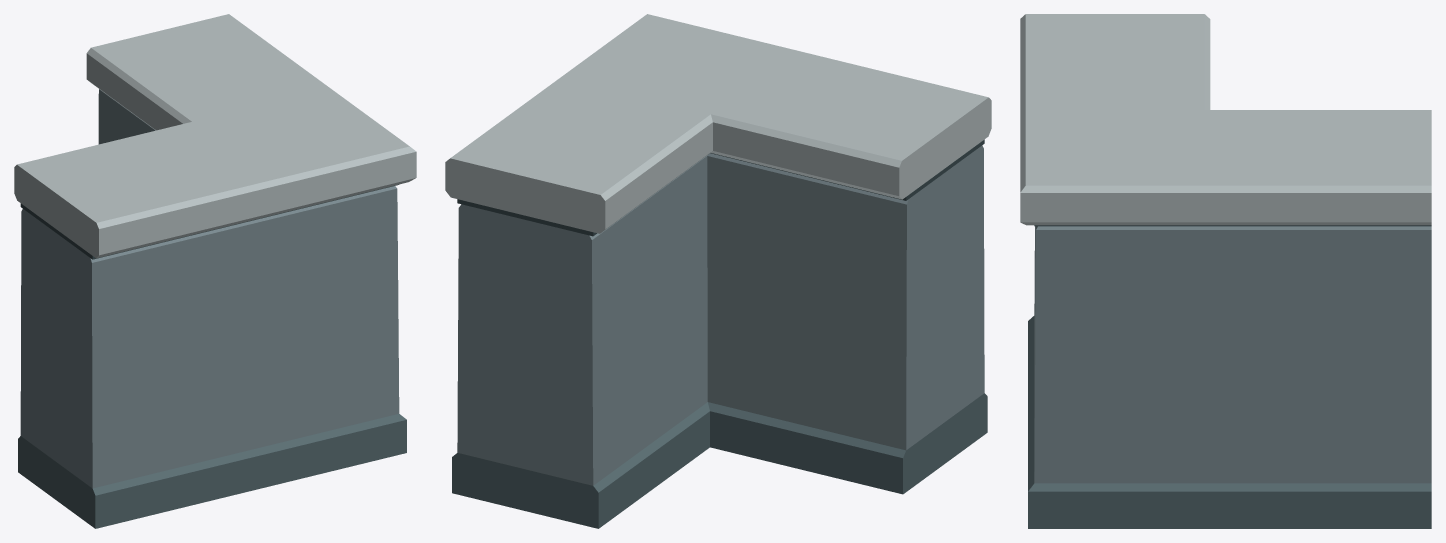
Rendered from city_shore_edges_04_quay_corner.glb.
3 views of the same model, side by side, from view 1: azimuth 30°, elevation 25°; view 2: azimuth 150°, elevation 25°; view 3: azimuth 270°, elevation 25° (orthographic). The views are drawn at different scales.
Visible parts, largest first — view 1: CityShoreEdges04_quay_corner_Mesh; view 2: CityShoreEdges04_quay_corner_Mesh; view 3: CityShoreEdges04_quay_corner_Mesh.
Boxes of the visible parts, x1=… form: CityShoreEdges04_quay_corner_Mesh: x1=14, y1=14, x2=416, y2=528; CityShoreEdges04_quay_corner_Mesh: x1=445, y1=14, x2=991, y2=528; CityShoreEdges04_quay_corner_Mesh: x1=1020, y1=14, x2=1431, y2=528.
Size of the model in its own units: 2.6 by 2.4 by 2.6.
